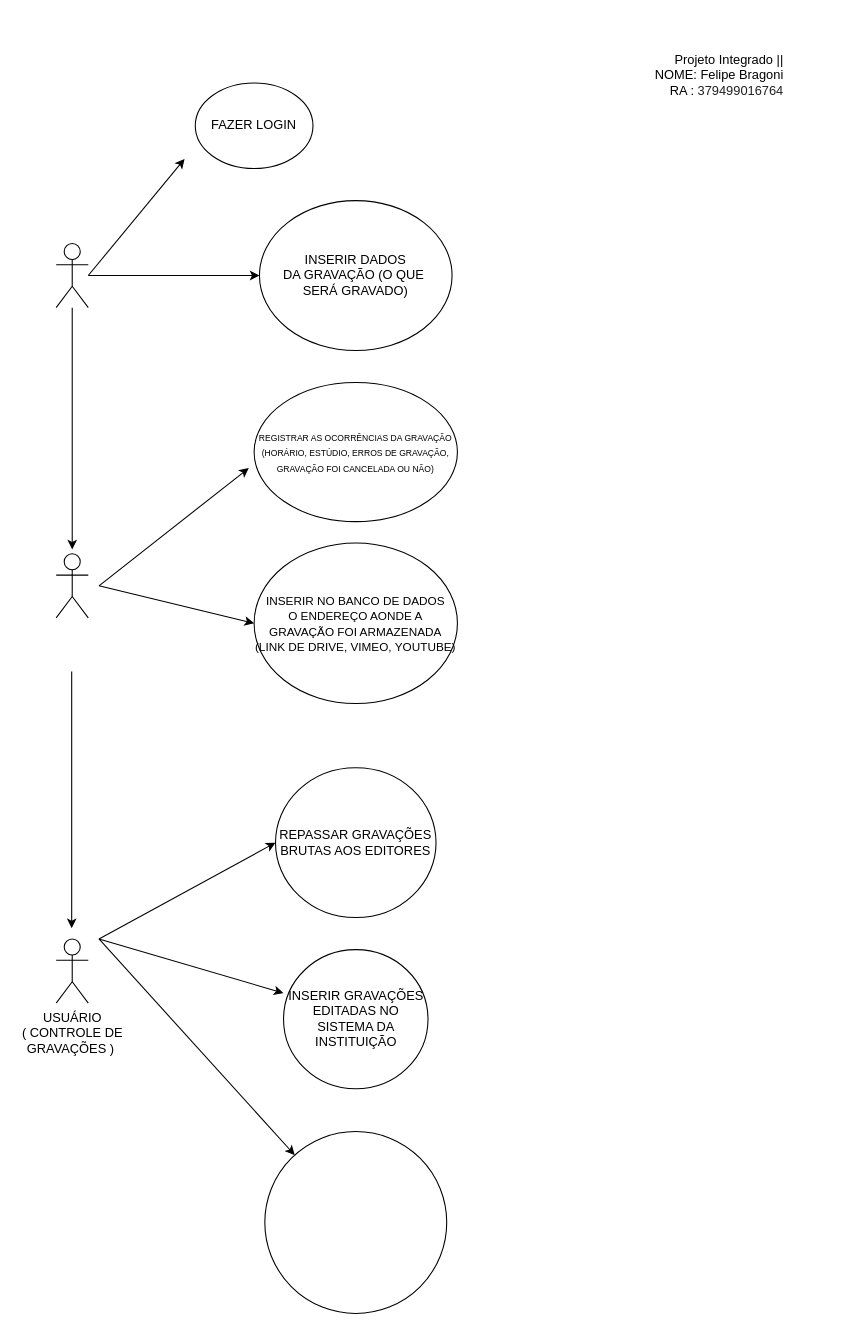
Some shapes in this 866 by 1332 pixel diagram are drawn without their labels. Here are the shapes that lost their labels. From the top down, the centre of each, then its label:
At [71,275]: "USUÁRIO (GRADE DE PROGRAMAÇÃO)".
At [71,585]: "USUARIO (OPERADOR DE ESTÚDIOS)".
At [355,1221]: "INSERIR NO BANCO DE DADOS DADOS DE QUAL CURSO ESSA GRAVAÇÃO PODE SER UTILIZADA".
